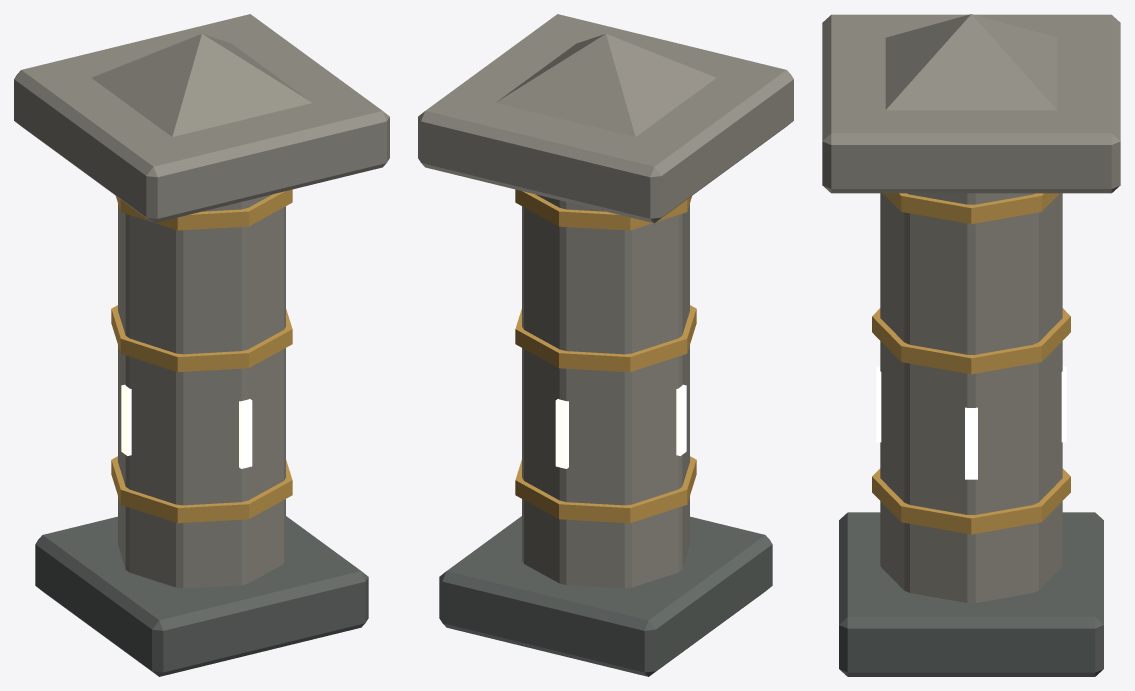
Rendered from SM_AltarPillar.fbx.
3 views of the same model, side by side, from view 1: azimuth 30°, elevation 25°; view 2: azimuth 150°, elevation 25°; view 3: azimuth 270°, elevation 25° (orthographic). The views are drawn at different scales.
Parts seen in each view (by area): view 1: SM_AltarPillar; view 2: SM_AltarPillar; view 3: SM_AltarPillar.
Boxes of the visible parts, <box> form: SM_AltarPillar: <box>14,14,389,676</box>; SM_AltarPillar: <box>418,14,793,676</box>; SM_AltarPillar: <box>822,14,1120,676</box>.
Bounding box in the file's own units: 135 × 305 × 135.
